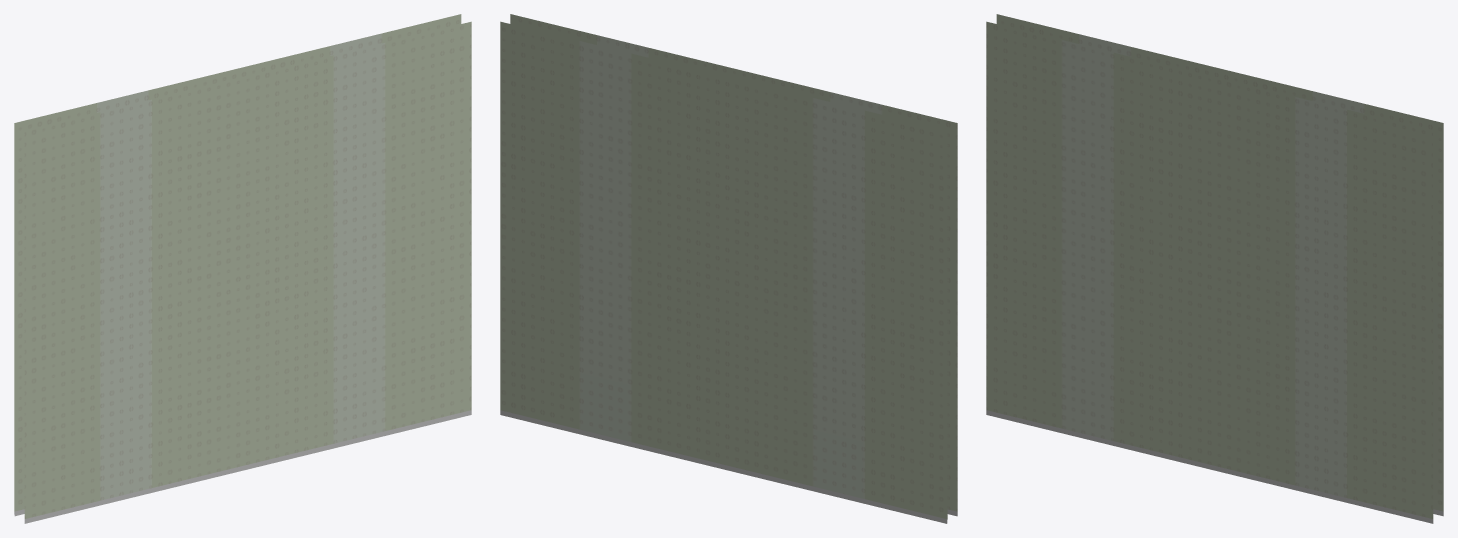
3 renders of one model, left to right at view 1: azimuth 30°, elevation 25°; view 2: azimuth 150°, elevation 25°; view 3: azimuth 330°, elevation 25°, orthographic.
Visible parts, largest first — view 1: Mesh (53); view 2: Mesh (53); view 3: Mesh (53).
Part boxes in pixels (x1,y1,x2,y2): Mesh (53): (14,14,471,523); Mesh (53): (500,14,957,523); Mesh (53): (986,14,1443,523).
Size of the model in its own units: 414 by 348 by 16.55.
